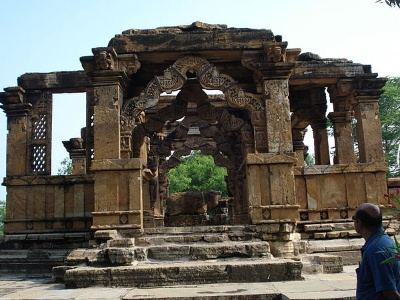torana: (81, 27, 294, 225)
